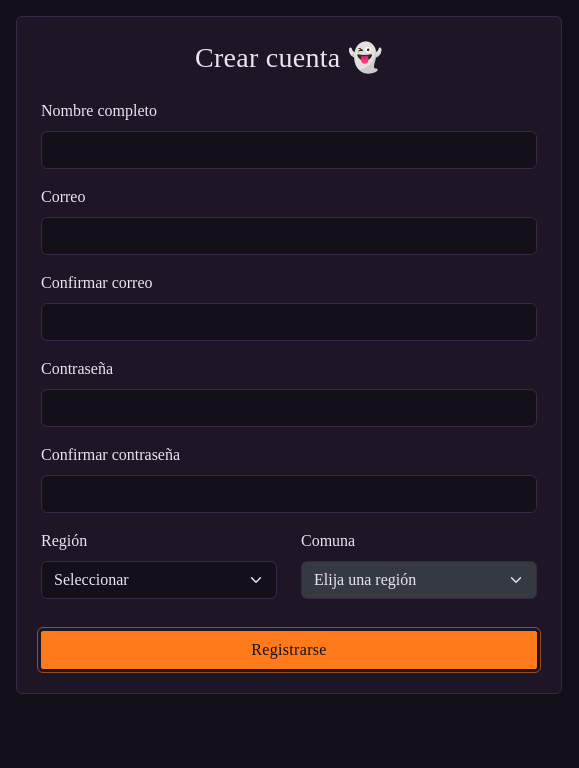
Test case: Página Registro › al enviar vacío muestra los mensajes de error
Click the submit button.
click(289, 650)  # box 41,631 -> 537,669
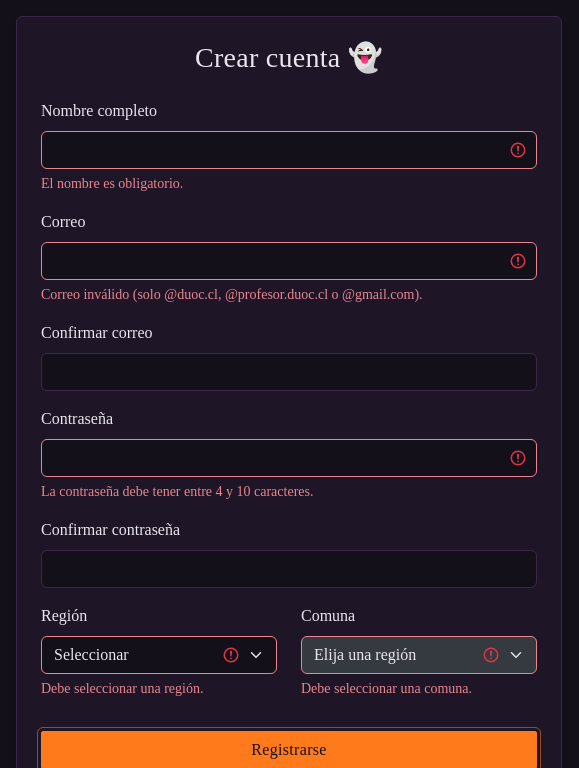
Expected: the number of elements with class "invalid-feedback" is 5, 41,176 -> 183,191; 41,287 -> 423,302; 41,484 -> 314,499; 41,681 -> 204,696; 301,681 -> 472,696
